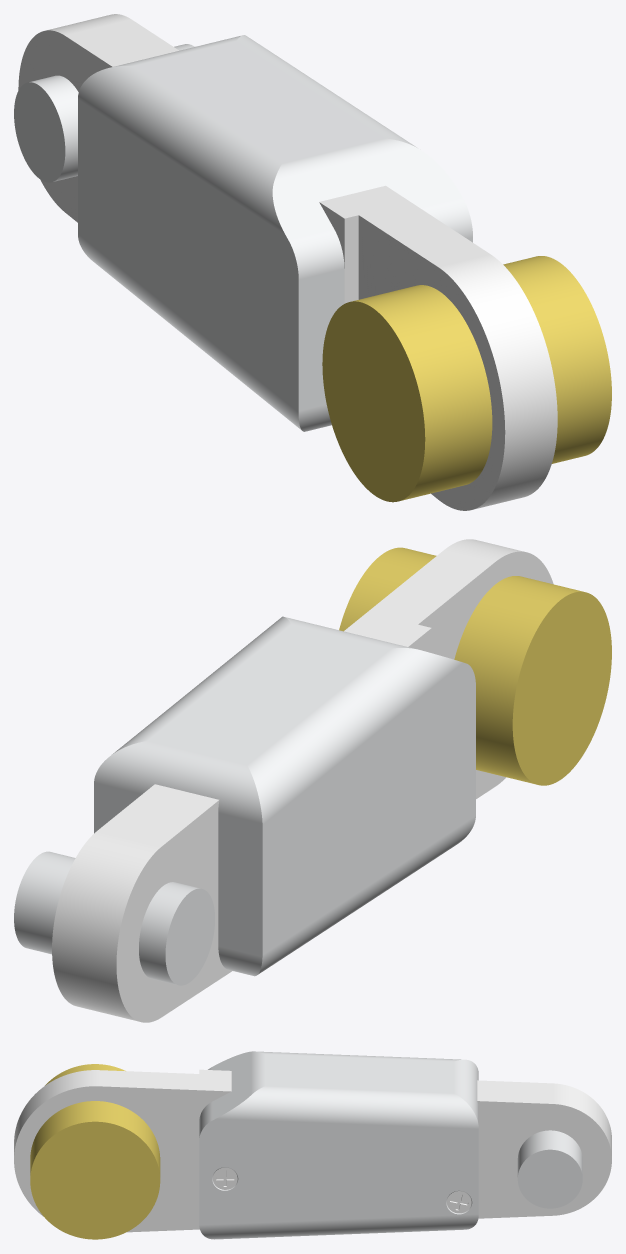
Rendered from finger_proximal.glb.
3 views of the same model, one above another, from view 1: azimuth 30°, elevation 25°; view 2: azimuth 150°, elevation 25°; view 3: azimuth 270°, elevation 25° (orthographic). The views are drawn at different scales.
Parts seen in each view (by area): view 1: B4159; view 2: B4159; view 3: B4159.
Part boxes in pixels (x1,y1,x2,y2): B4159: (14, 14, 611, 510); B4159: (14, 539, 611, 1022); B4159: (14, 1051, 611, 1239).
Bounding box in the file's own units: 0.021 × 0.0264 × 0.092.
